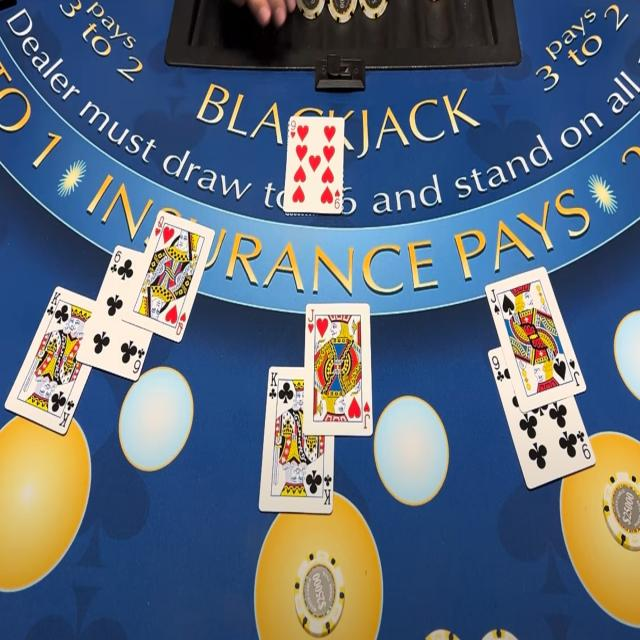6: (114, 249, 121, 263)
9: (491, 354, 501, 371), (290, 118, 297, 131)
J: (489, 287, 498, 304), (307, 307, 314, 323)
K: (270, 369, 278, 389), (51, 291, 61, 305)
Q: (158, 216, 164, 228)
